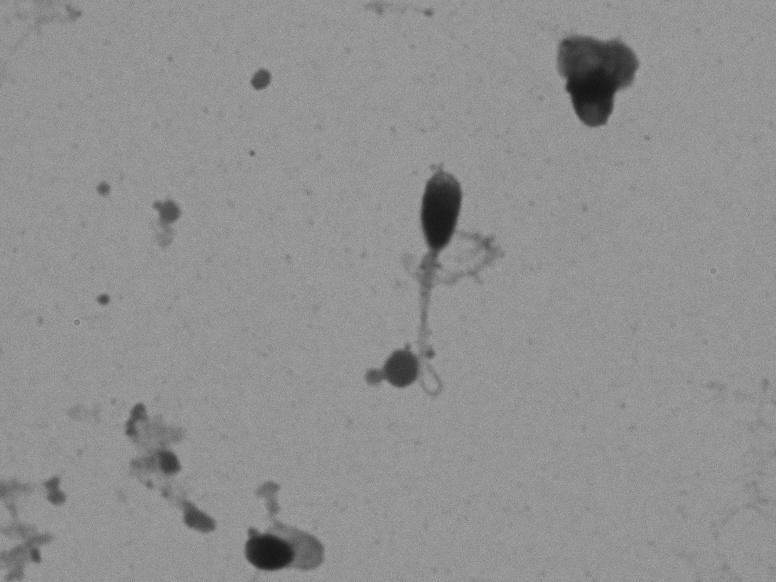Abnormal: (405, 139, 531, 423), (218, 460, 371, 580)
